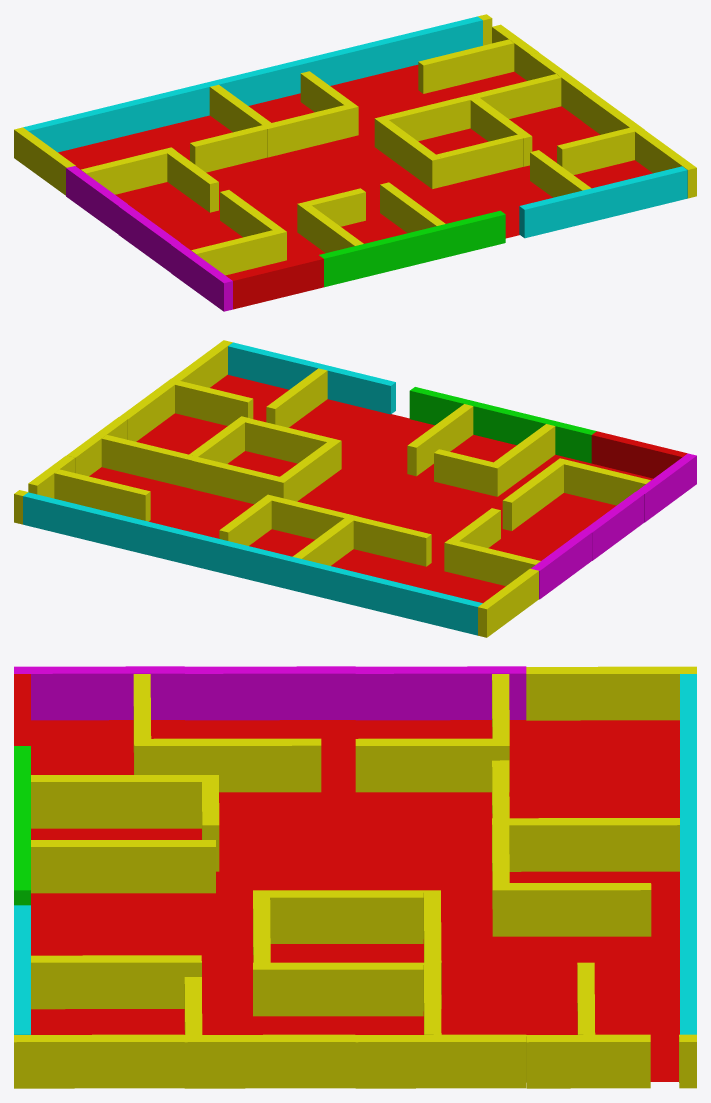
Rendered from Building_1.fbx.
3 renders of one model, top to bottom at view 1: azimuth 30°, elevation 25°; view 2: azimuth 150°, elevation 25°; view 3: azimuth 270°, elevation 25°, orthographic. The views are drawn at different scales.
Parts seen in each view (by area): view 1: wall_6; view 2: wall_6; view 3: wall_6.
Boxes of the visible parts, bbox=[...] form: wall_6: bbox=[14, 14, 696, 311]; wall_6: bbox=[14, 340, 696, 637]; wall_6: bbox=[14, 666, 696, 1088].
Bounding box in the file's own units: 52.07 × 3 × 40.
